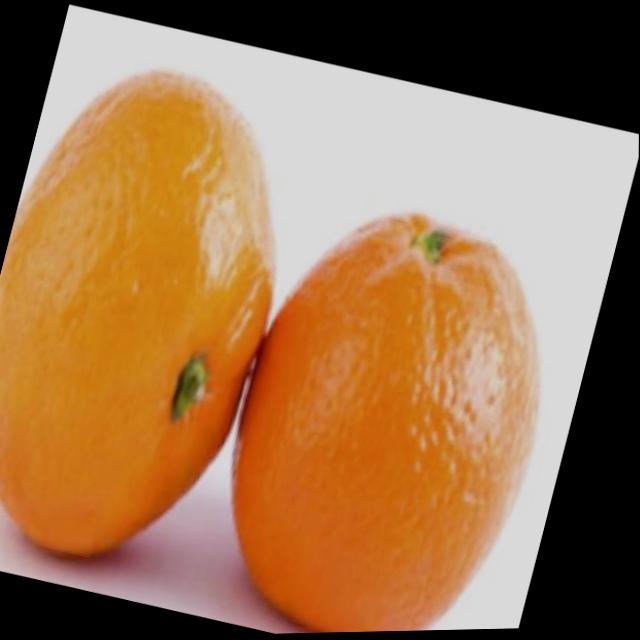Orange: (0, 37, 325, 591), (192, 180, 585, 637)
